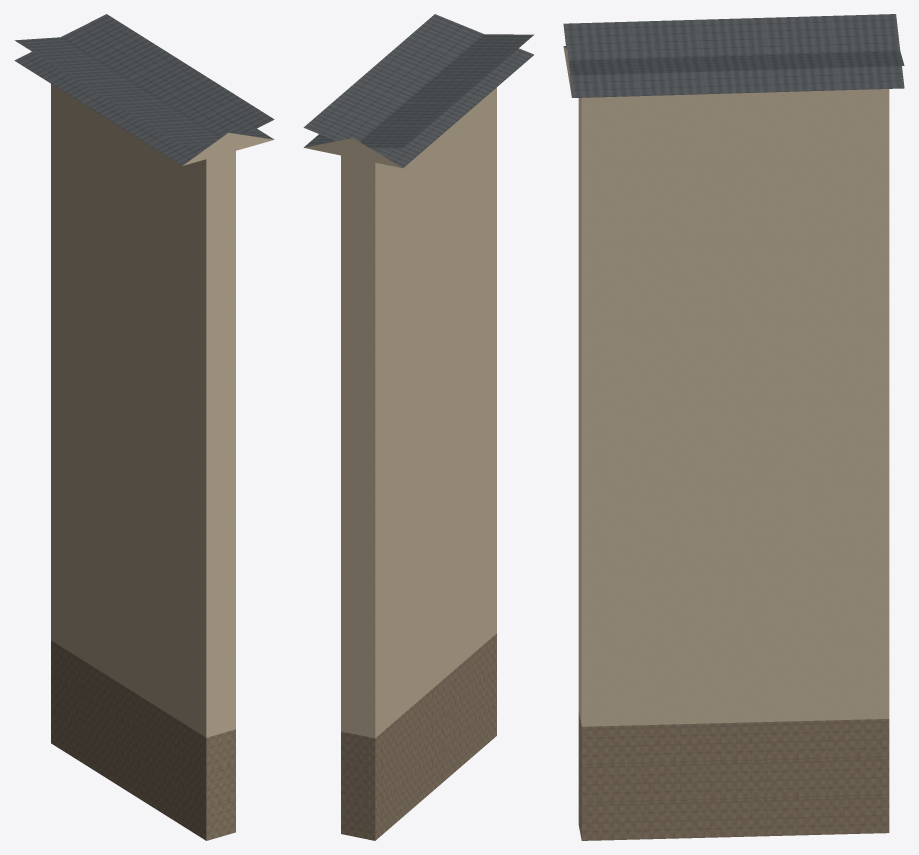
File: bld_c4_-3_565.gltf
The picture shows the model from 3 angles, left to right: view 1: azimuth 30°, elevation 25°; view 2: azimuth 150°, elevation 25°; view 3: azimuth 270°, elevation 25°; orthographic projection. The views are drawn at different scales.
Visible parts, largest first — view 1: bld_c4_-3_565; view 2: bld_c4_-3_565; view 3: bld_c4_-3_565.
Part boxes in pixels (bbox=[...]): bld_c4_-3_565: bbox=[14, 14, 274, 840]; bld_c4_-3_565: bbox=[303, 14, 533, 840]; bld_c4_-3_565: bbox=[563, 14, 904, 840].
Bounding box in the file's own units: 5.91 × 35 × 13.81.
Materials: 4 (4 with a texture image).
